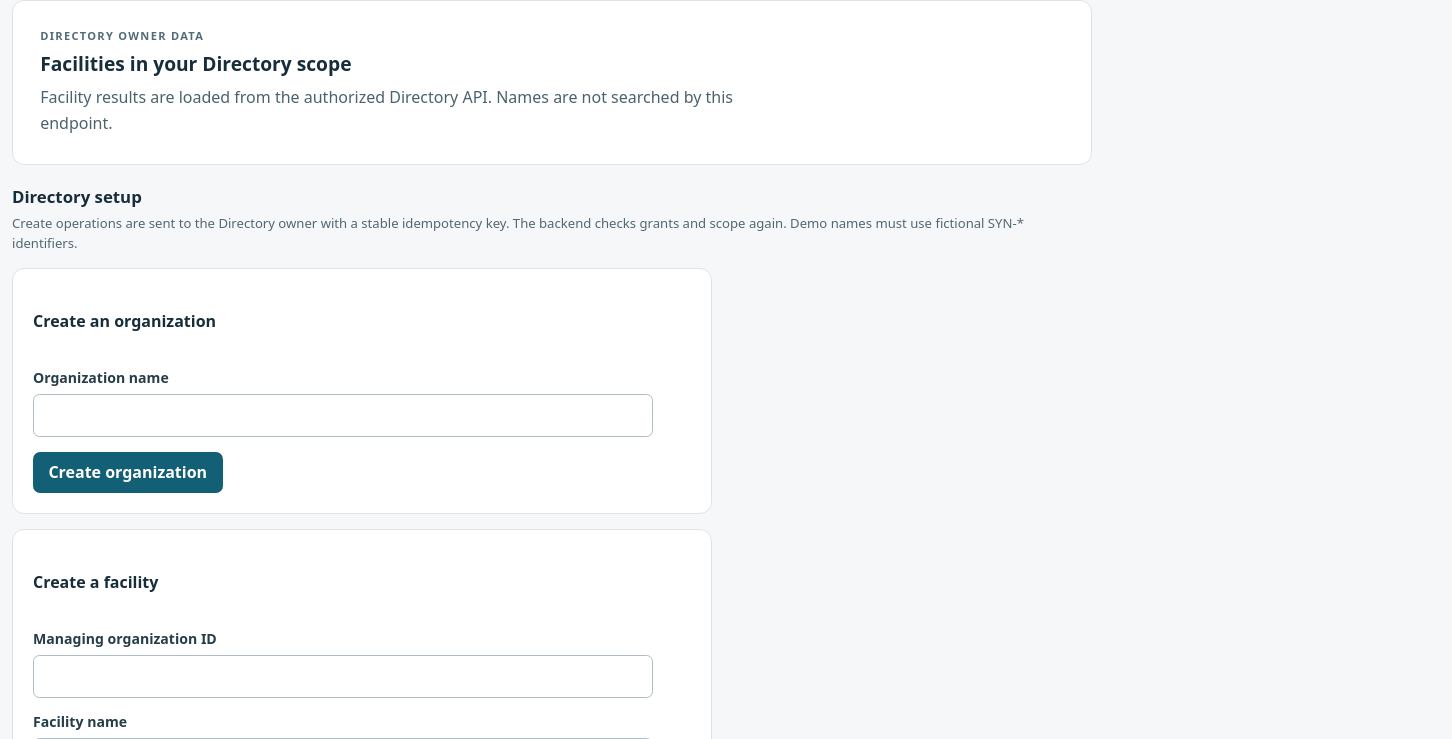
Scenario: read-only Directory workspace › shows setup only for DirectoryCuration and submits a synthetic organization through the owner
Expected: the heading "Directory setup" is shown, x1=12 y1=185 x2=142 y2=208
In the field labelled "Organization name": (343,416) x1=33 y1=394 x2=653 y2=437, type "SYN-ORG-001"
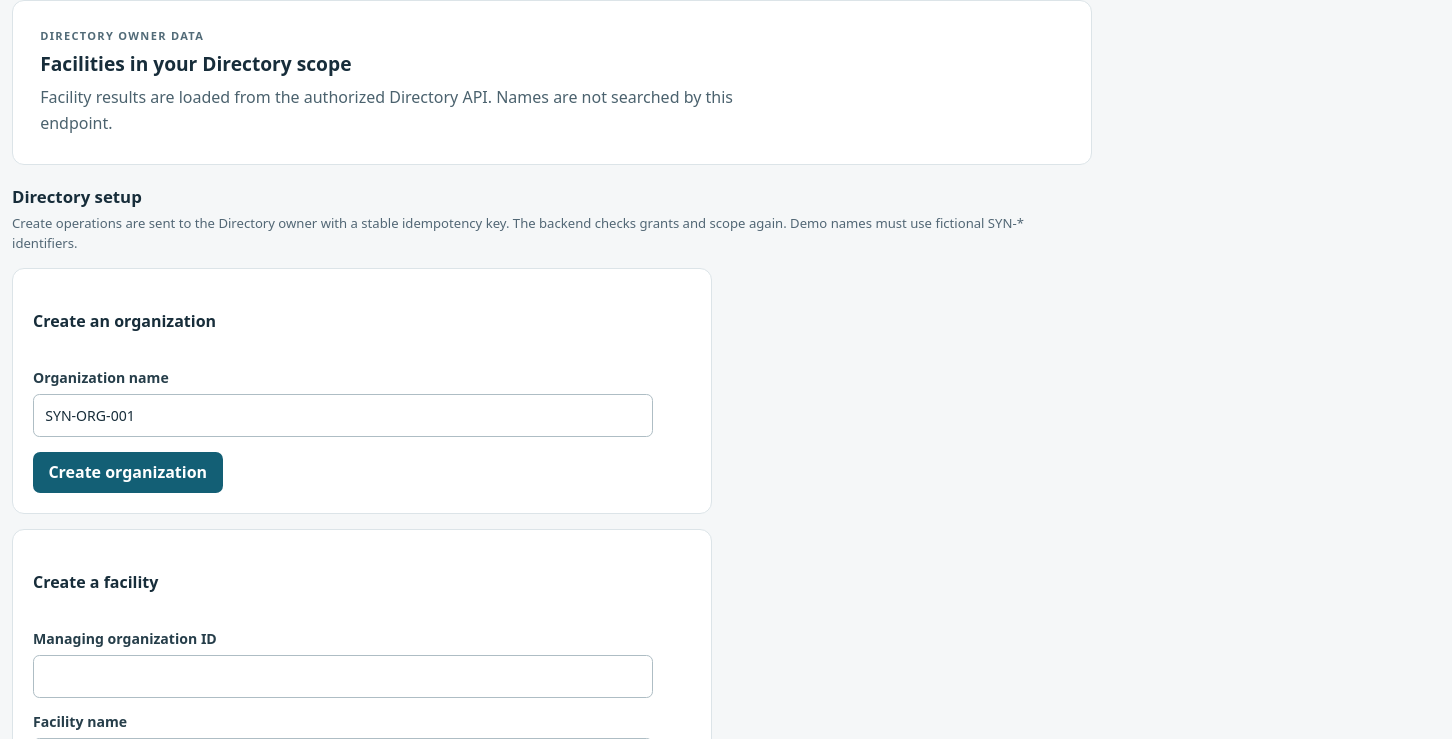
Click the button "Create organization": (128,472) x1=33 y1=452 x2=222 y2=493
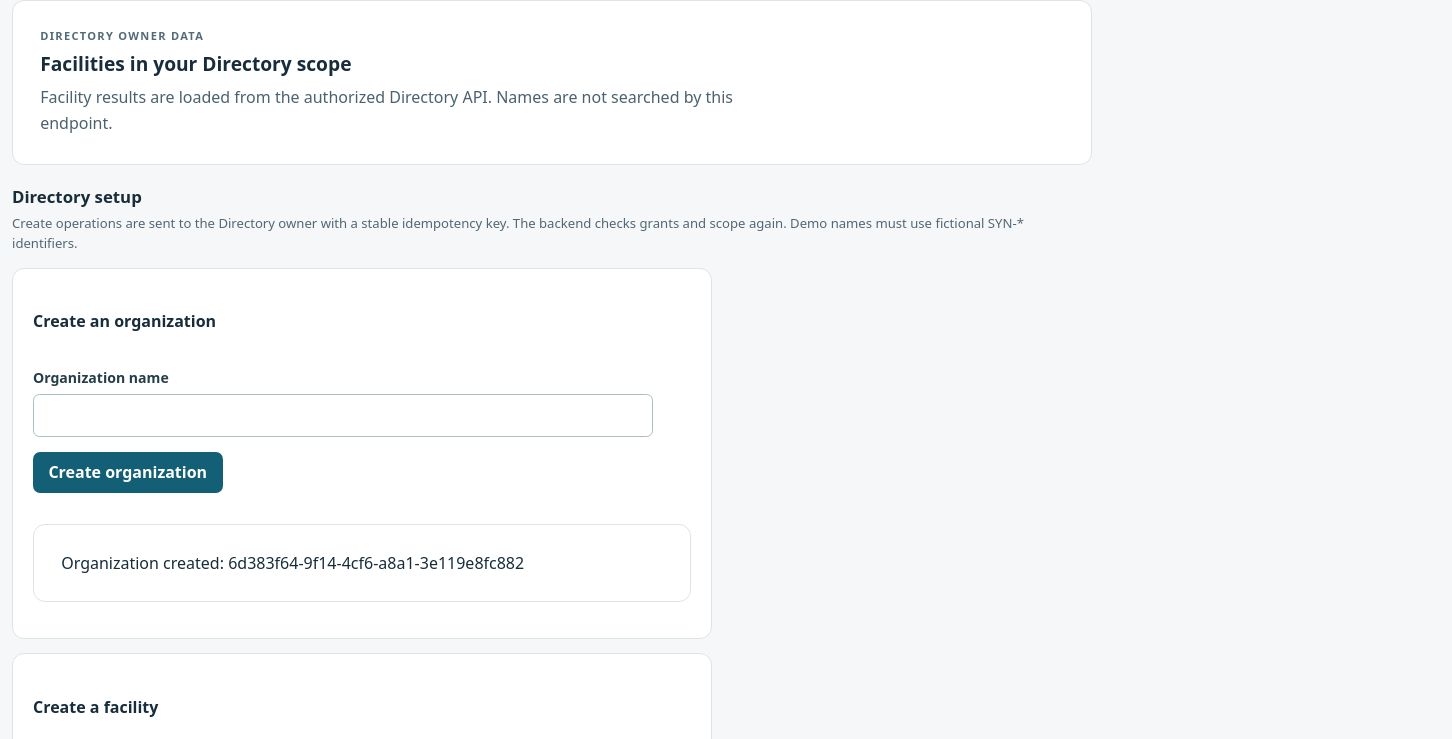
Now the message shows "Organization created", box x1=61 y1=552 x2=228 y2=574
